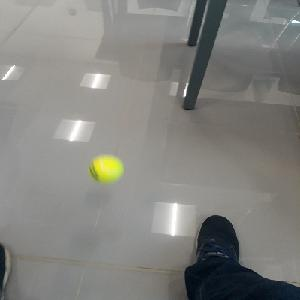Ball: (88, 156, 123, 184)
